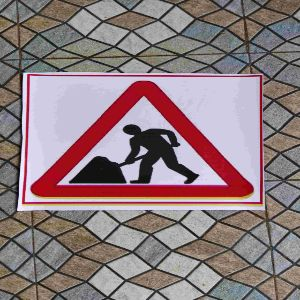men at work: (19, 71, 267, 206)
